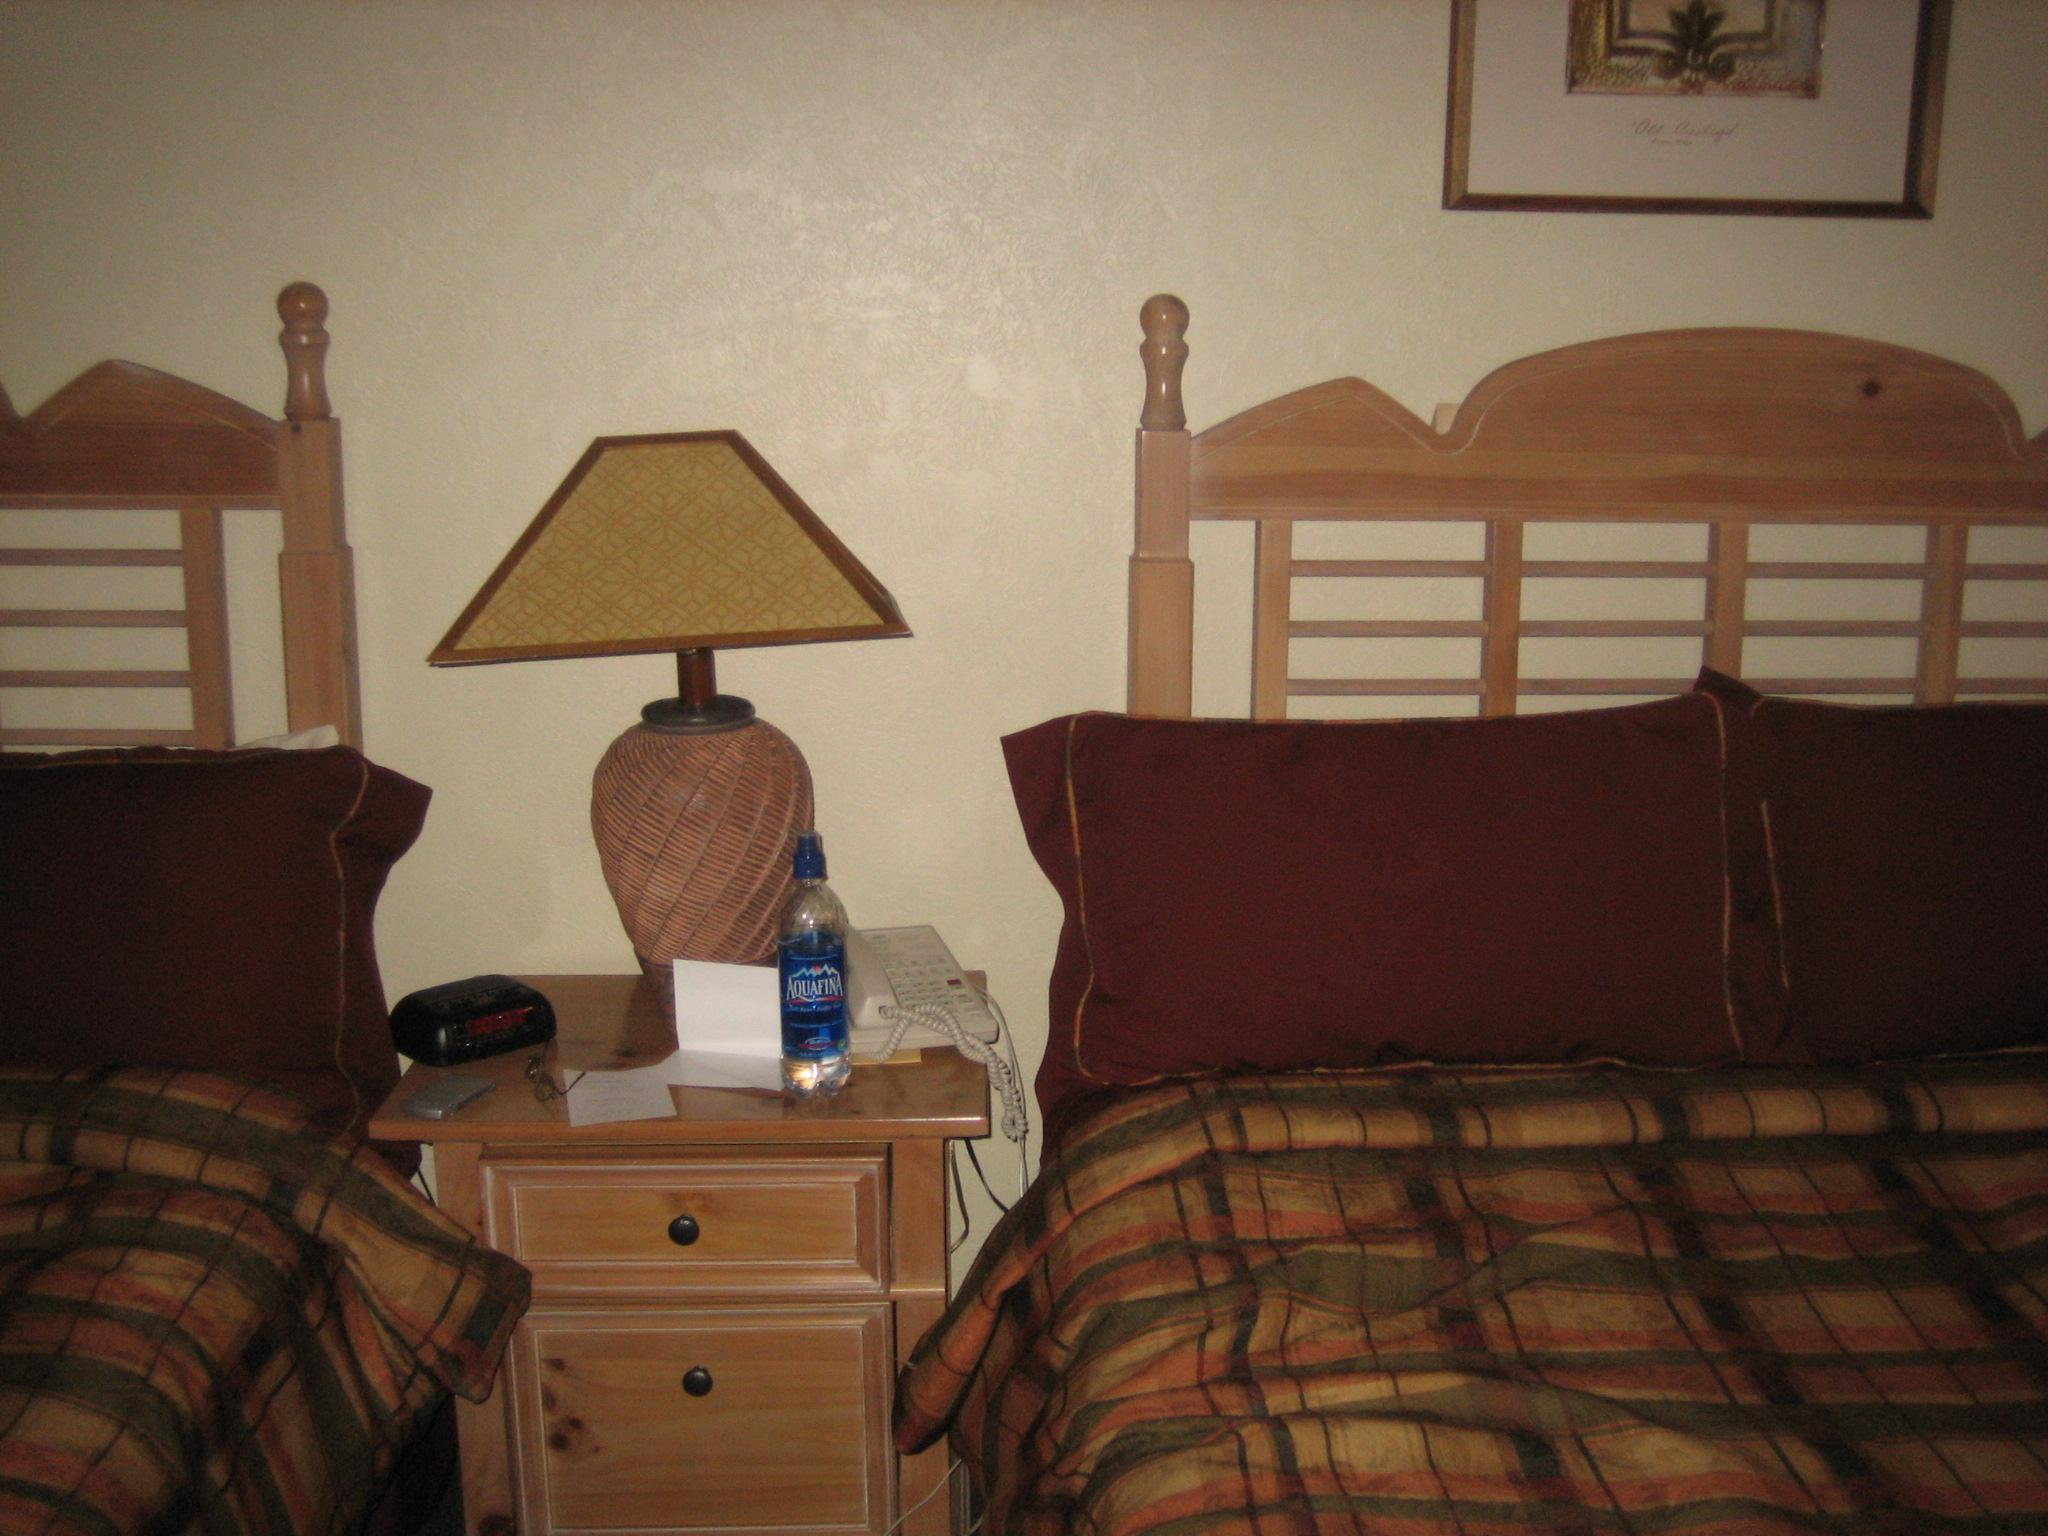Cama: (1061, 274, 2046, 1530), (19, 323, 355, 1523)
